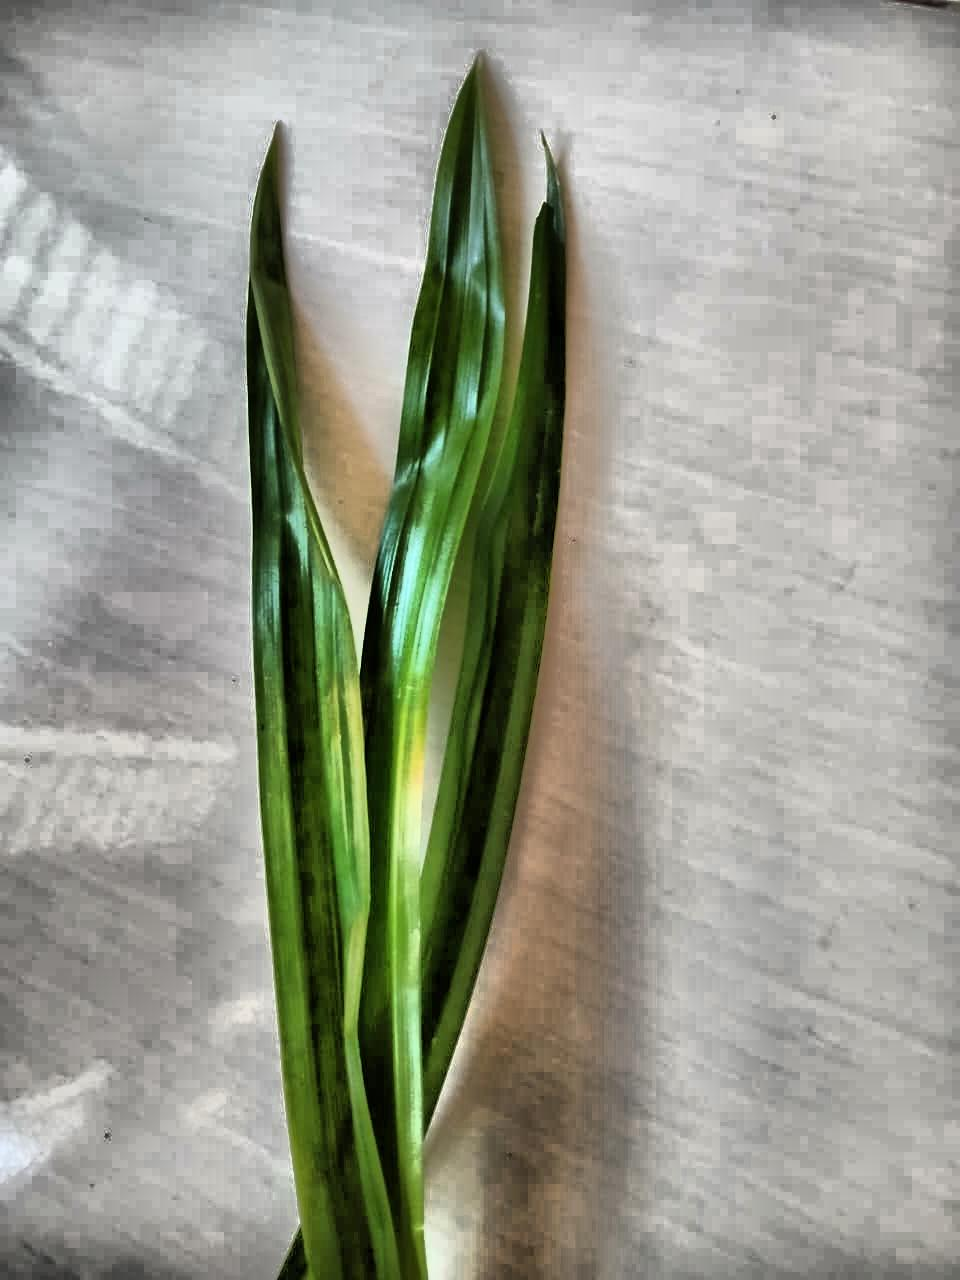daun pandan: (246, 63, 567, 1279)
